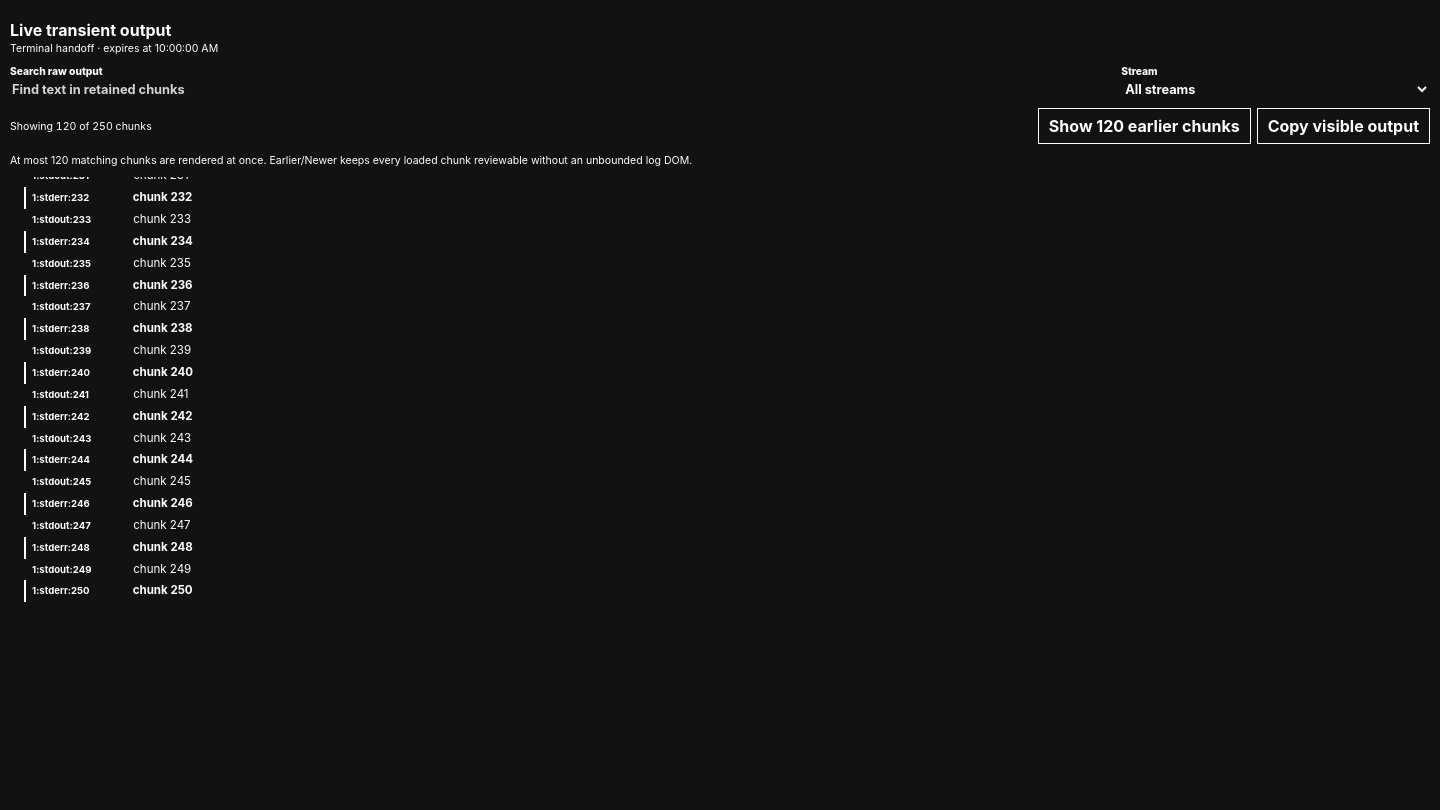
GameTapeLiveLogs bounded review › copies only the currently rendered bounded window
The image size is (1440, 810).
(page scrolled)
Click the button "Copy visible output" at (1343, 126), box [1257,108,1430,144]
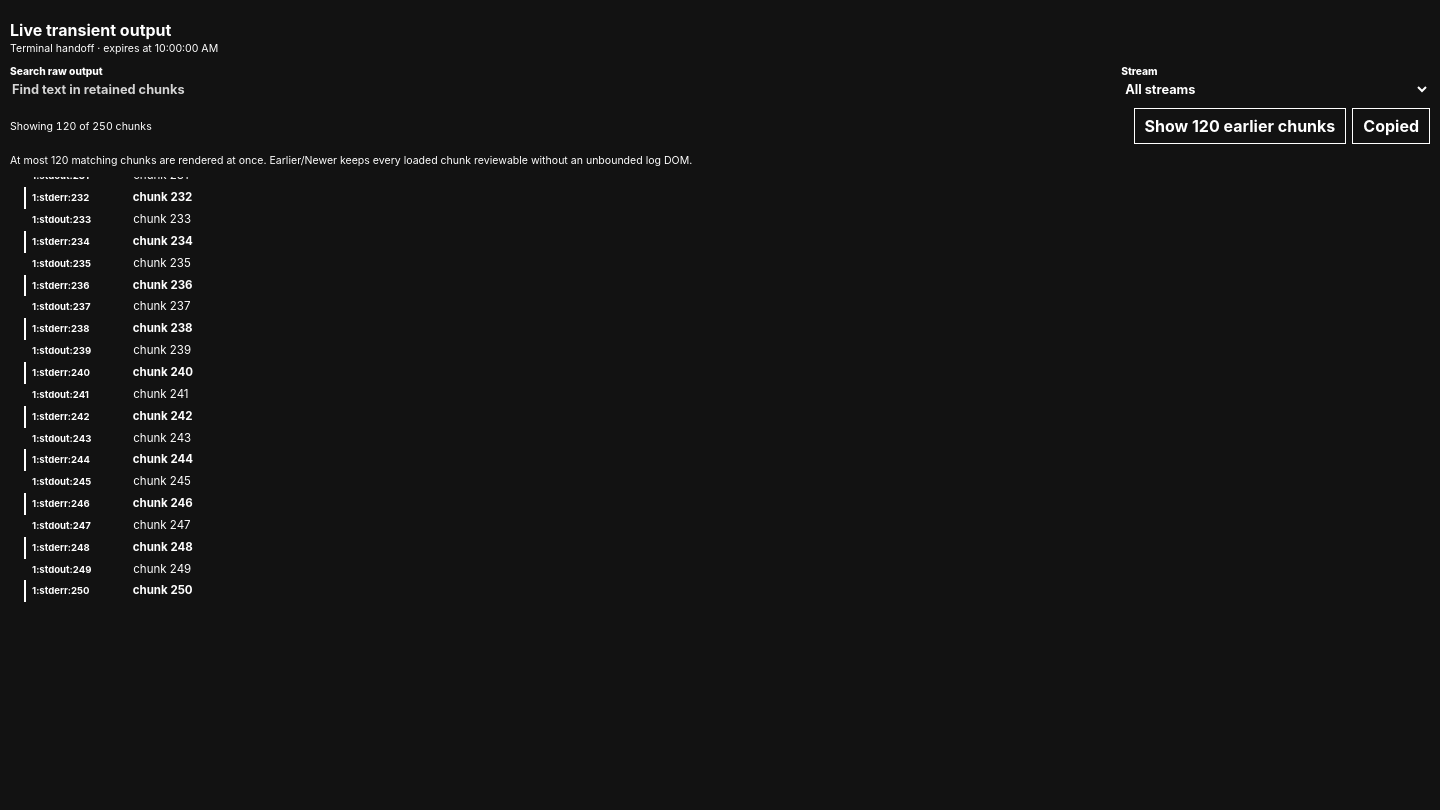
Result: the button "Copied" is shown at [1352,108,1430,144]
